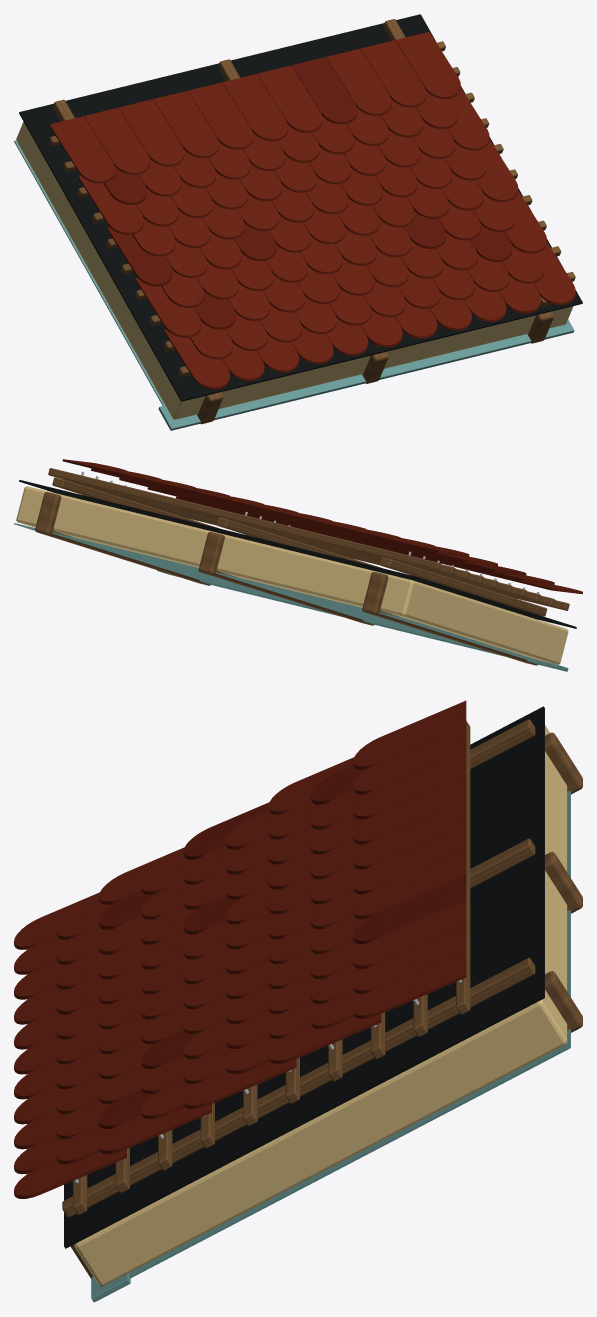
File: modell.glb
3 renders of one model, top to bottom at view 1: azimuth 30°, elevation 25°; view 2: azimuth 150°, elevation 25°; view 3: azimuth 270°, elevation 25°, orthographic. The views are drawn at different scales.
Parts seen in each view (by area): view 1: g01-deckziegel_deckung, g01-zusatzebene_zusatzebene, g01-daemmung_daemmung, g01-deckziegel_deckung.001, g01-innenanschluss_luftdichtheit, g01-lattung_lattung, g01-sparren_tragwerk, g01-luftdichtheit_luftdichtheit; view 2: g01-daemmung_daemmung, g01-lattung_lattung, g01-deckziegel_deckung, g01-sparren_tragwerk, g01-luftdichtheit_luftdichtheit, g01-zusatzebene_zusatzebene, g01-innenanschluss_luftdichtheit, g01-deckziegel_deckung.001; view 3: g01-deckziegel_deckung, g01-zusatzebene_zusatzebene, g01-daemmung_daemmung, g01-lattung_lattung, g01-deckziegel_deckung.001, g01-luftdichtheit_luftdichtheit, g01-sparren_tragwerk.
Part boxes in pixels (box(x1,y1,x2,y2)): g01-deckziegel_deckung: box(49, 31, 575, 389); g01-zusatzebene_zusatzebene: box(19, 14, 582, 401); g01-daemmung_daemmung: box(16, 122, 573, 419); g01-deckziegel_deckung.001: box(103, 57, 512, 329); g01-innenanschluss_luftdichtheit: box(158, 319, 574, 430); g01-lattung_lattung: box(48, 19, 575, 376); g01-sparren_tragwerk: box(197, 311, 553, 424); g01-luftdichtheit_luftdichtheit: box(14, 140, 164, 405); g01-daemmung_daemmung: box(16, 486, 568, 664); g01-lattung_lattung: box(48, 468, 569, 616); g01-deckziegel_deckung: box(62, 459, 582, 594); g01-sparren_tragwerk: box(35, 492, 537, 665); g01-luftdichtheit_luftdichtheit: box(14, 523, 551, 665); g01-zusatzebene_zusatzebene: box(19, 480, 576, 628); g01-innenanschluss_luftdichtheit: box(157, 570, 568, 671); g01-deckziegel_deckung.001: box(165, 484, 526, 575); g01-deckziegel_deckung: box(14, 700, 466, 1198); g01-zusatzebene_zusatzebene: box(64, 706, 544, 1248); g01-daemmung_daemmung: box(74, 725, 567, 1286); g01-lattung_lattung: box(62, 719, 535, 1217); g01-deckziegel_deckung.001: box(98, 765, 466, 1128); g01-luftdichtheit_luftdichtheit: box(129, 790, 570, 1278); g01-sparren_tragwerk: box(70, 732, 582, 1278).
Bounding box in the file's own units: 2.1 × 1.07 × 1.74.
Materials: 7 (3 with a texture image).
